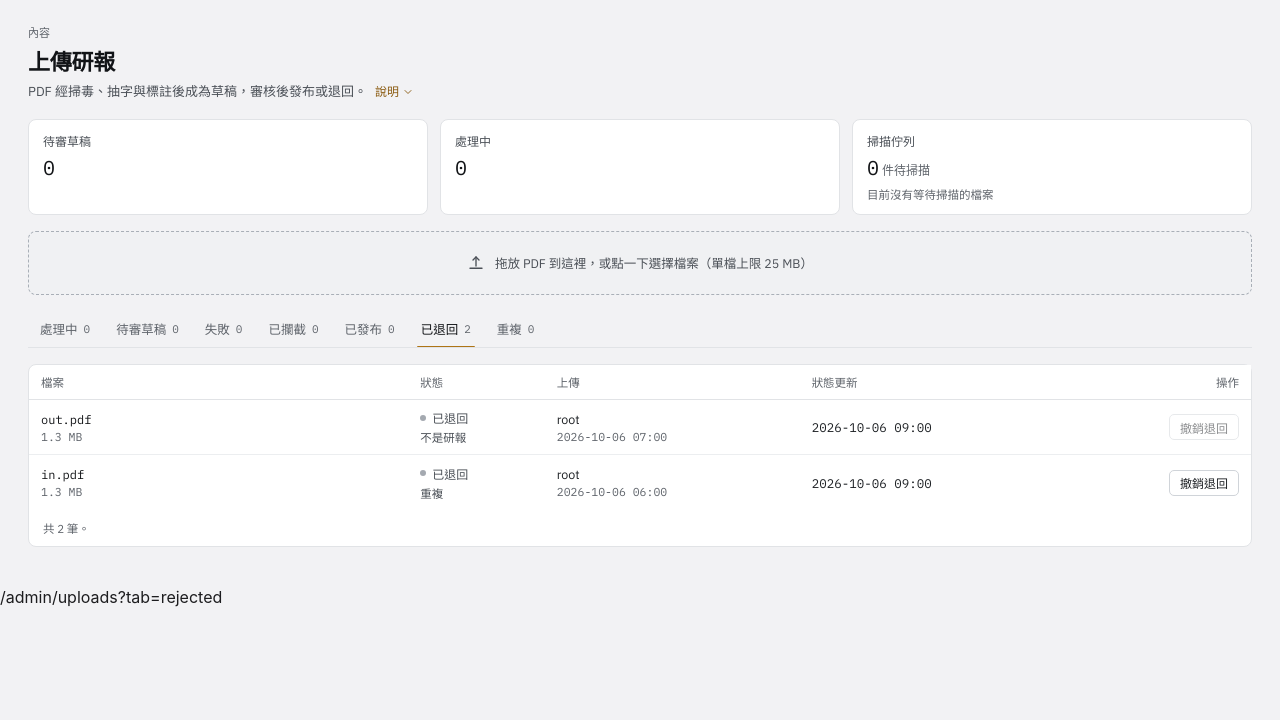
Scenario: 已退回的列動作：寬限期內可撤銷（toast 說明回到哪個狀態）；過期停用並說明
Expected: the text "不是研報" is shown, 420,430 -> 466,445
Expected: the button "撤銷退回" in the row of "不是研報" is disabled, 1169,414 -> 1239,440
Click the button "撤銷退回" in the row of "2026-10-06 06:00" at (1204, 483), box 1169,470 -> 1239,496
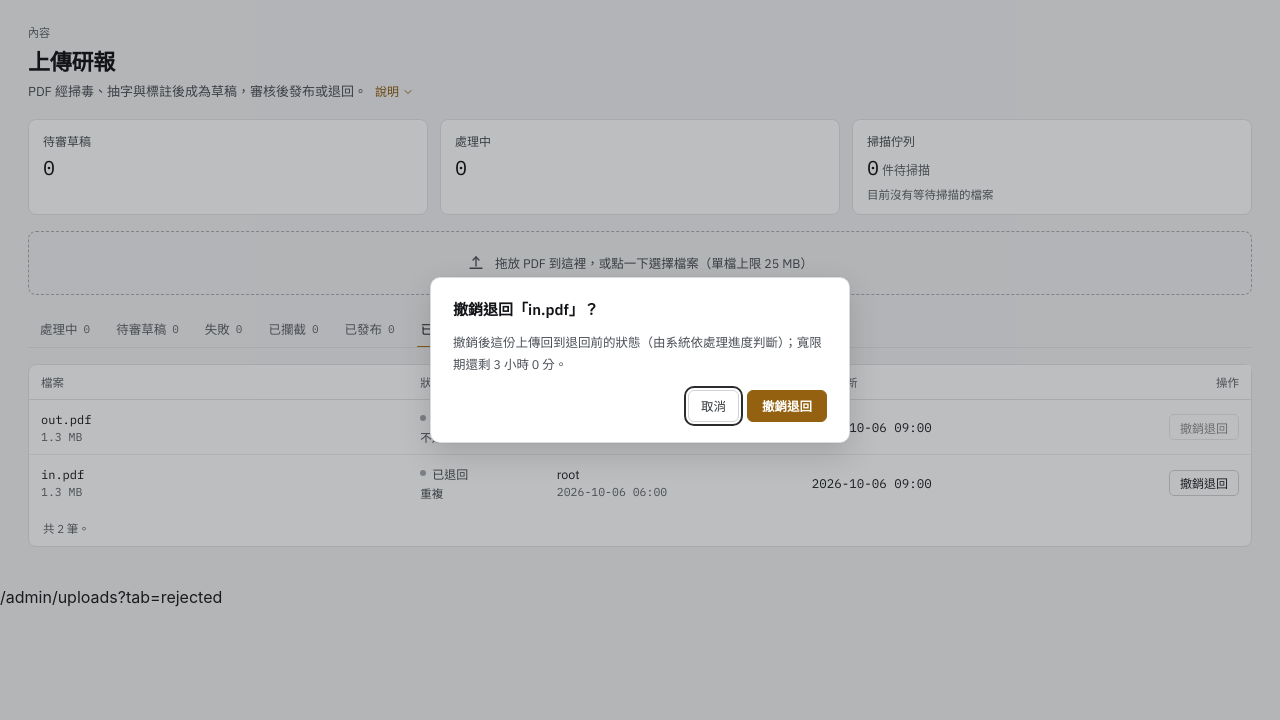
Click the button "撤銷退回" at (787, 406), box 747,390 -> 827,422
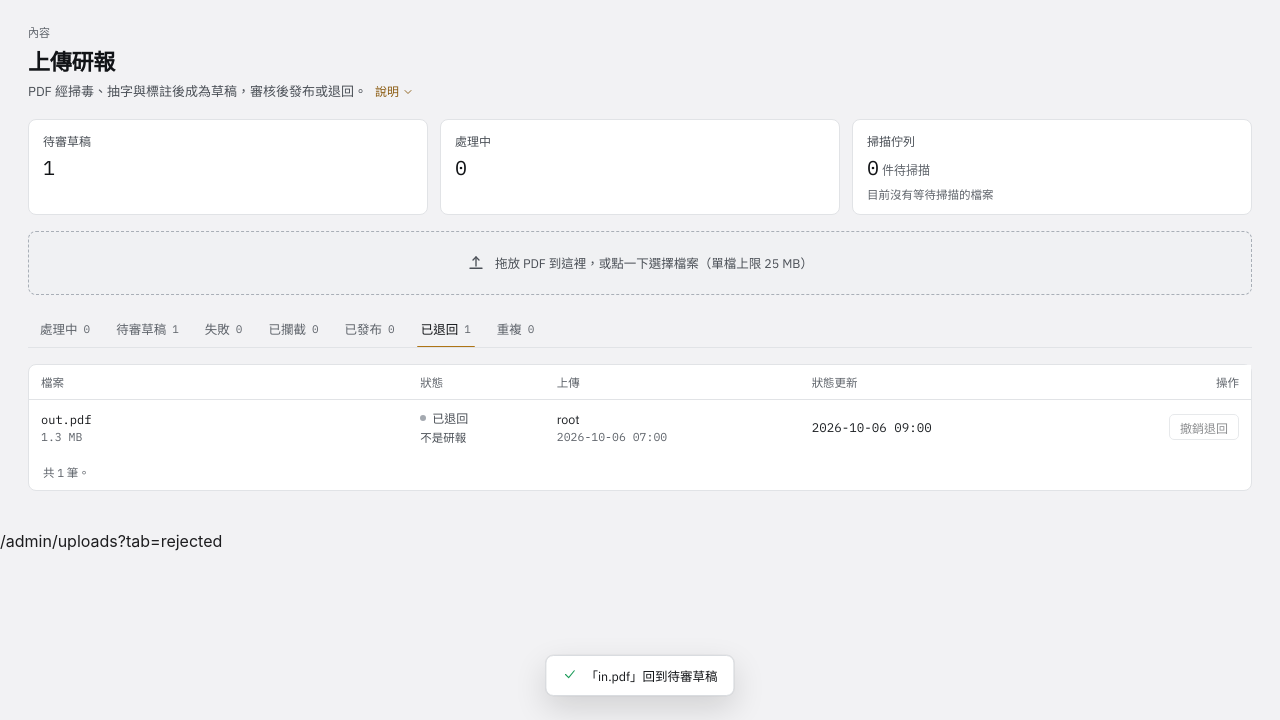
Expected: the text "「in.pdf」回到待審草稿" is shown, 545,655 -> 735,696
